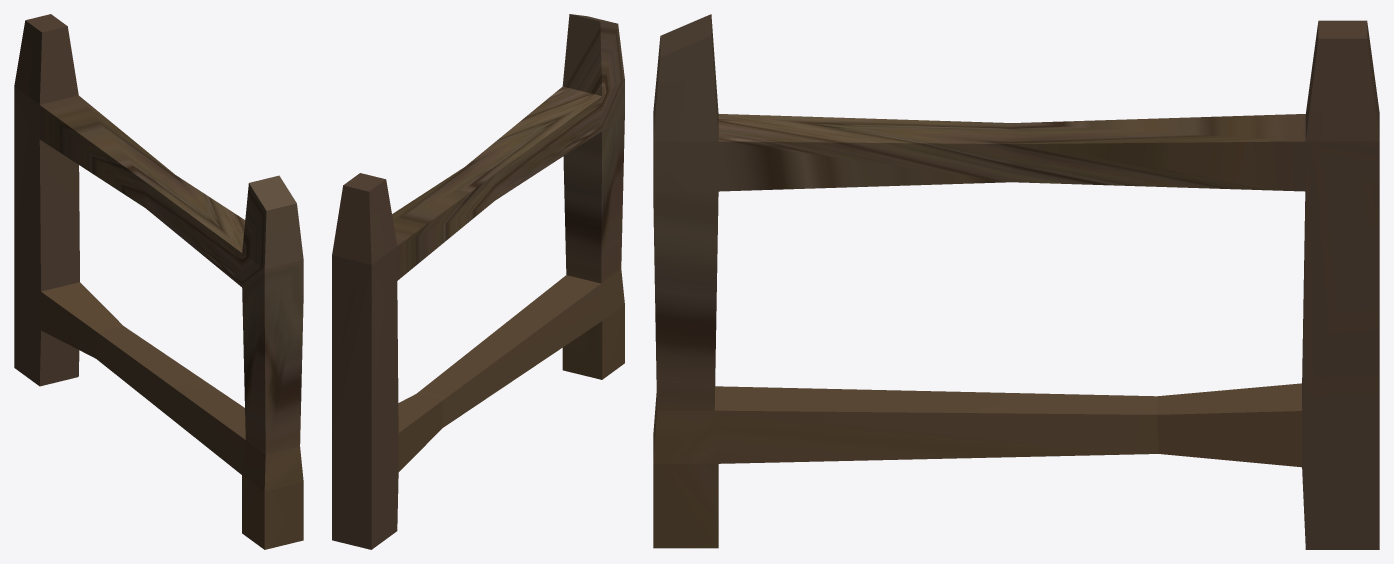
Rendered from FenceOne.fbx.
3 views of the same model, side by side, from view 1: azimuth 30°, elevation 25°; view 2: azimuth 150°, elevation 25°; view 3: azimuth 270°, elevation 25° (orthographic). The views are drawn at different scales.
Parts seen in each view (by area): view 1: Cube; view 2: Cube; view 3: Cube.
Part boxes in pixels (<box>): Cube: <box>14,14,303,549</box>; Cube: <box>332,14,624,549</box>; Cube: <box>653,14,1379,549</box>.
Bounding box in the file's own units: 43.54 × 376 × 484.
